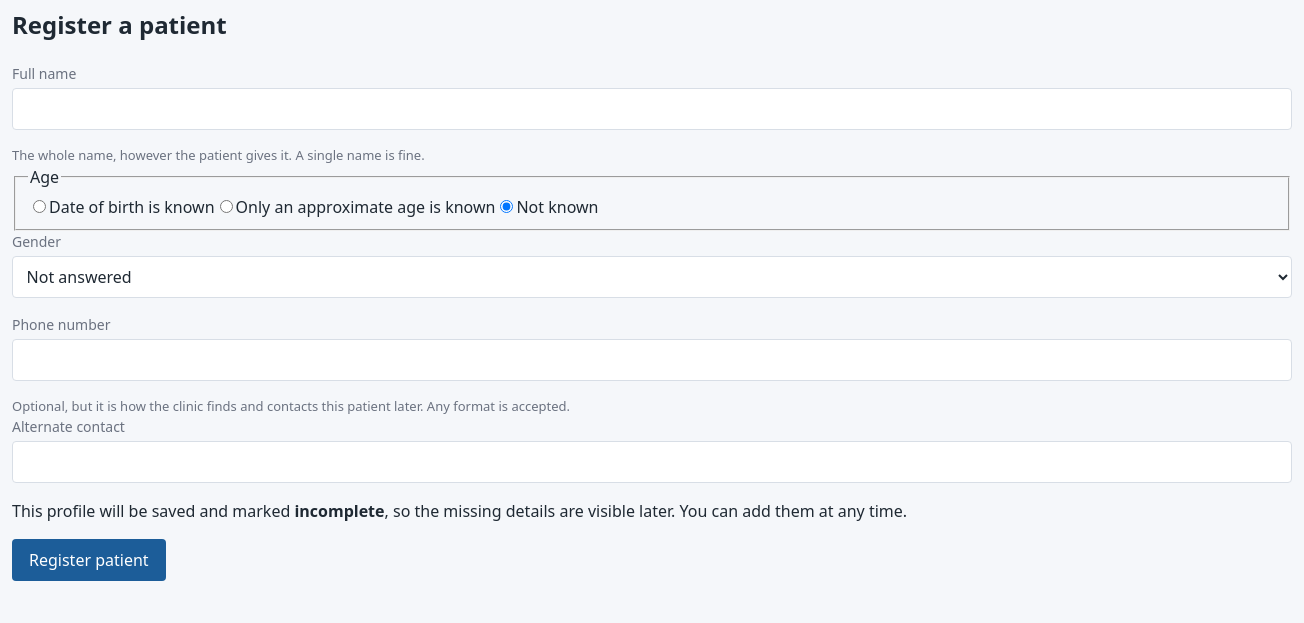
Scenario: PatientForm (F-5) › does not submit a blank name
Click the button "Register patient": (89,560) [12,539,166,581]
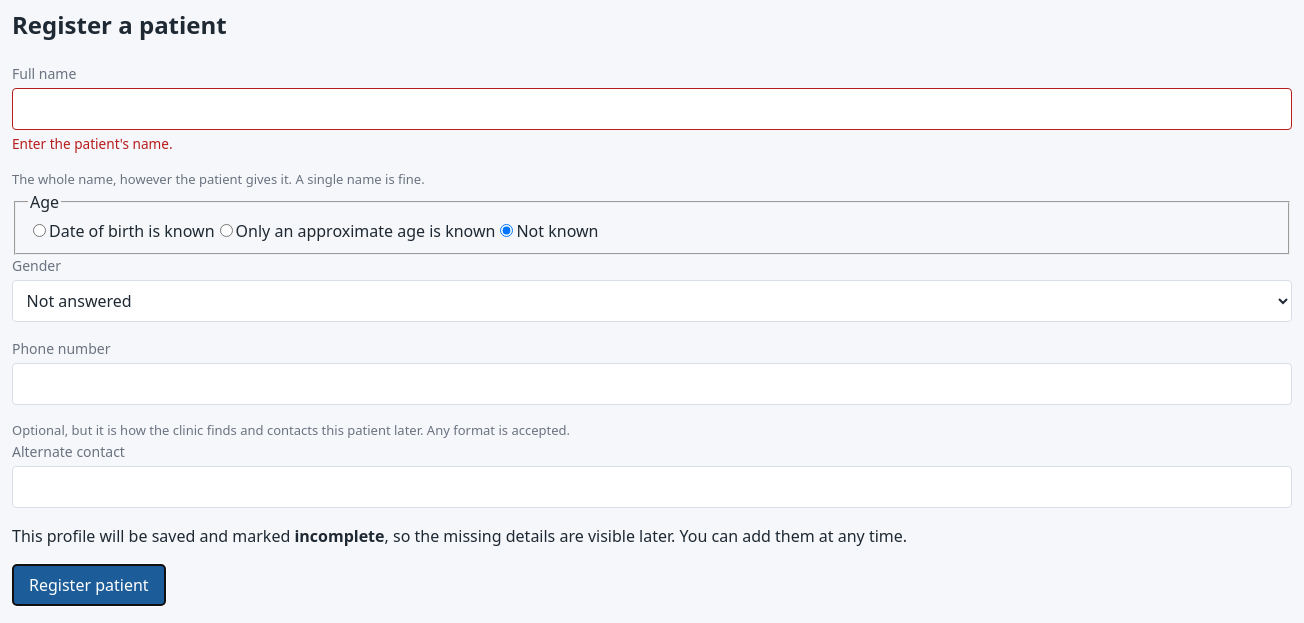
expect the text "Enter the patient's name." is shown: met, box [12,134,173,153]
